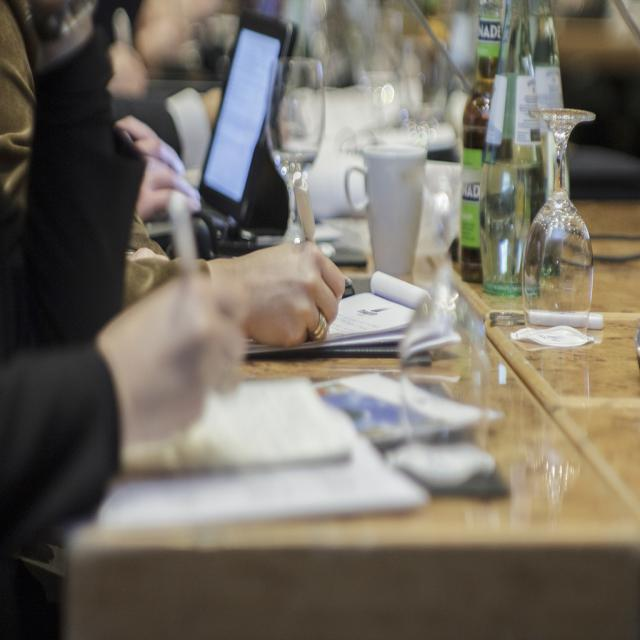Mobile-phone: (187, 20, 294, 220)
